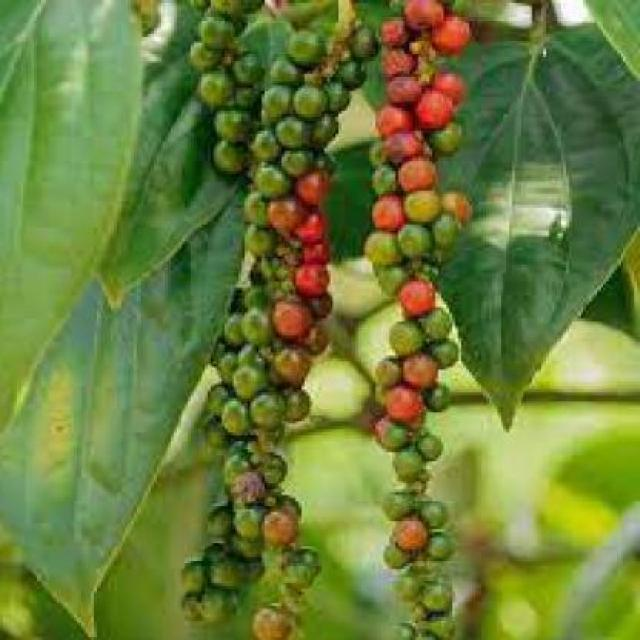RIPE: (382, 6, 479, 557), (282, 185, 348, 399)
